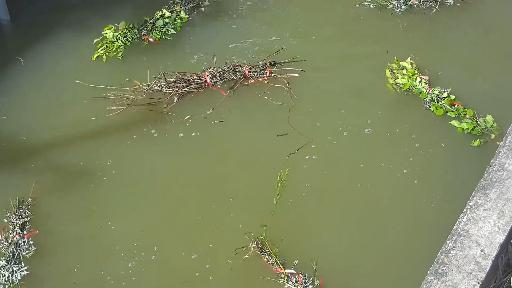twig: (76, 0, 338, 66), (85, 67, 343, 134), (379, 61, 503, 169), (246, 163, 349, 288), (0, 187, 37, 285), (336, 0, 453, 29)
